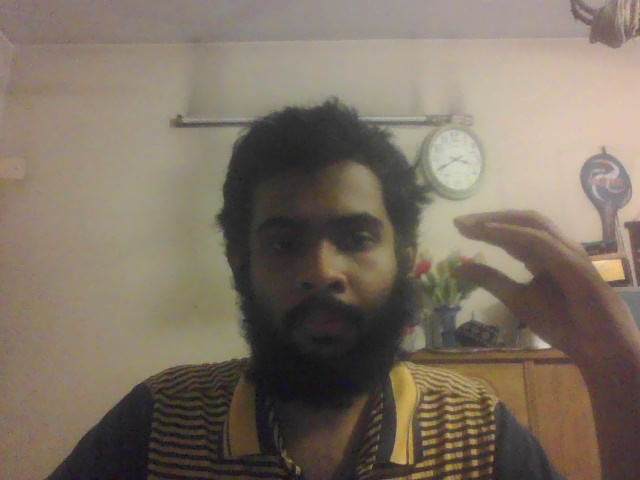No: (449, 214, 637, 359)
